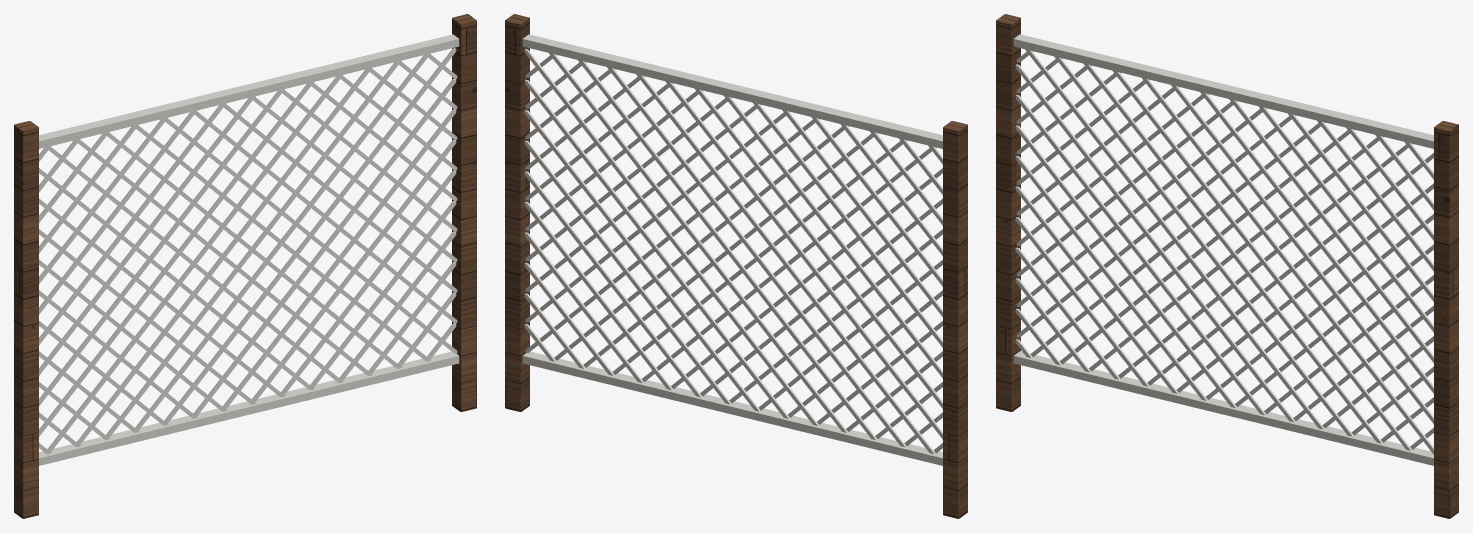
Rendered from lattice.glb.
3 renders of one model, left to right at view 1: azimuth 30°, elevation 25°; view 2: azimuth 150°, elevation 25°; view 3: azimuth 330°, elevation 25°, orthographic.
Parts seen in each view (by area): view 1: lattice_lattice, lattice_dkwood; view 2: lattice_lattice, lattice_dkwood; view 3: lattice_lattice, lattice_dkwood.
Part boxes in pixels (<box>): lattice_lattice: <box>39,34,459,465</box>; lattice_dkwood: <box>14,14,476,518</box>; lattice_lattice: <box>522,34,942,465</box>; lattice_dkwood: <box>505,14,967,518</box>; lattice_lattice: <box>1013,34,1433,465</box>; lattice_dkwood: <box>996,14,1458,518</box>.
Size of the model in its own units: 2.49 by 2.03 by 0.09.
Materials: 2 (1 with a texture image).
